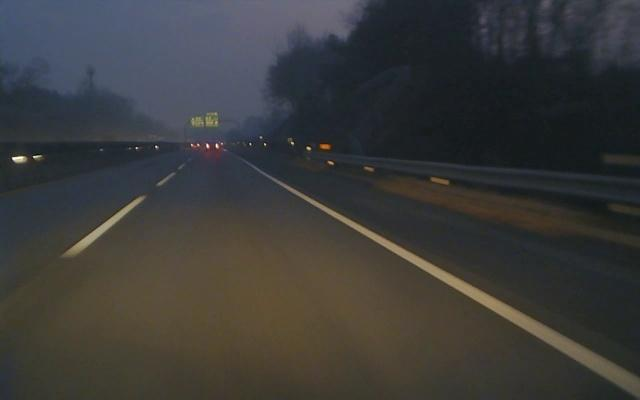lane: (238, 157, 640, 400), (61, 161, 188, 260)
